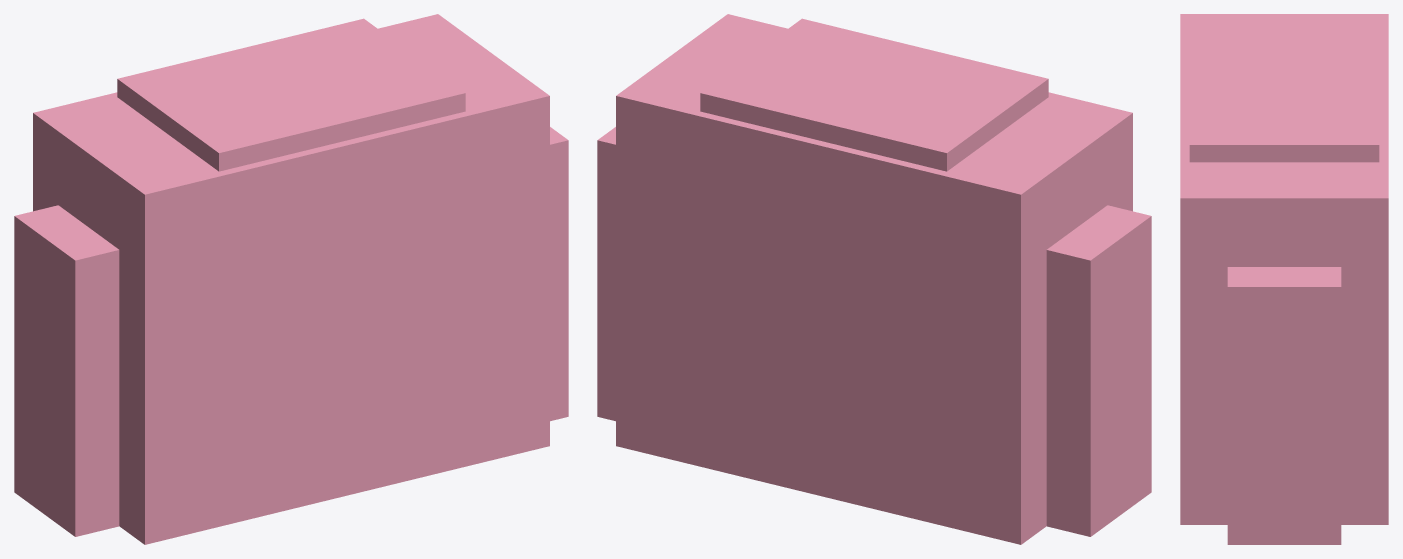
The model's file is female_crop_hoodie.glb.
The picture shows the model from 3 angles, left to right: view 1: azimuth 30°, elevation 25°; view 2: azimuth 150°, elevation 25°; view 3: azimuth 270°, elevation 25°; orthographic projection. The views are drawn at different scales.
Parts seen in each view (by area): view 1: CropHoodie; view 2: CropHoodie; view 3: CropHoodie.
Part boxes in pixels (<box>): CropHoodie: <box>14,14,568,544</box>; CropHoodie: <box>597,14,1151,544</box>; CropHoodie: <box>1180,14,1388,544</box>.
Size of the model in its own units: 0.56 by 0.4 by 0.22.
